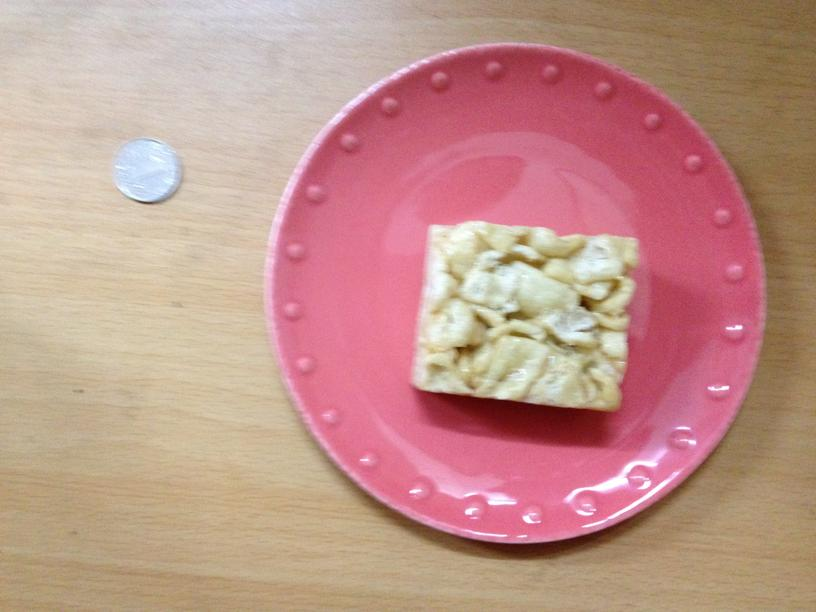coin: (108, 135, 182, 203)
sachima: (413, 219, 636, 416)
